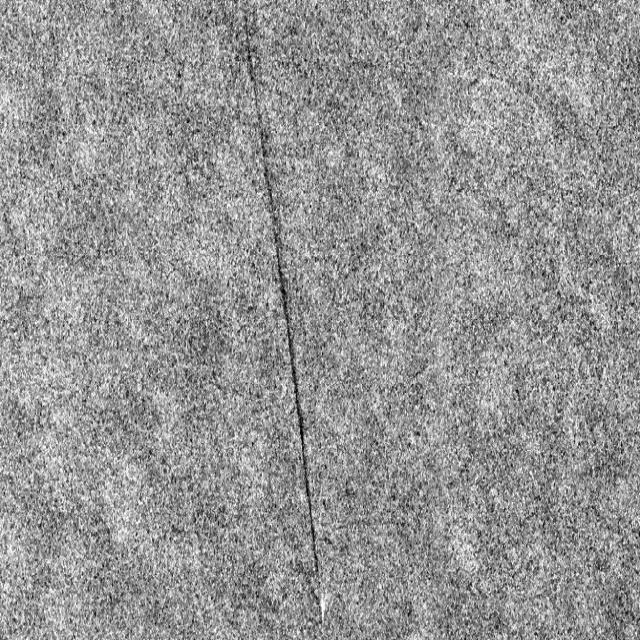oil-spill: (236, 7, 329, 581)
ship: (314, 585, 332, 631)
